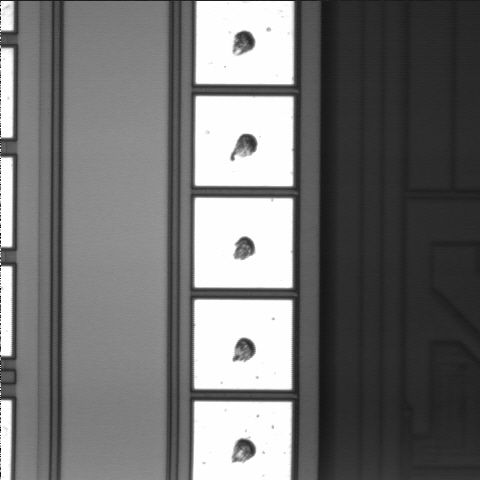pad: (195, 96, 293, 186), (195, 198, 293, 288), (194, 300, 292, 390)
